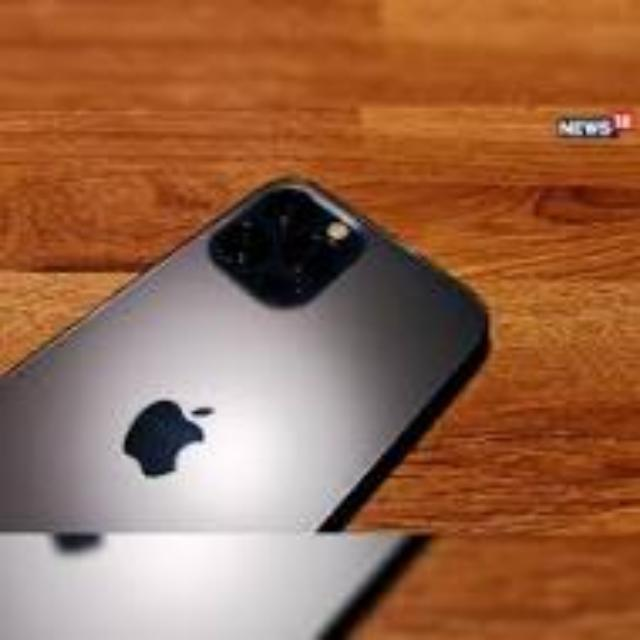PhoneUse: (2, 179, 490, 637)
SafeDriving: (529, 92, 640, 152)
